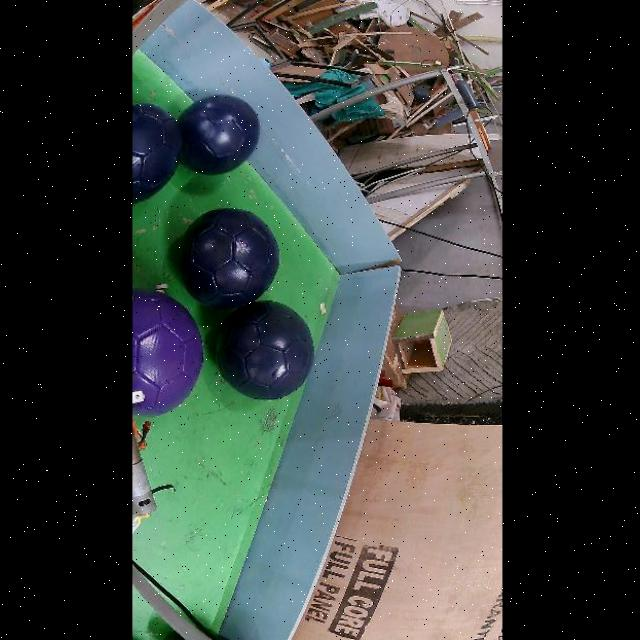B: (177, 209, 279, 309), (216, 301, 315, 400), (178, 94, 259, 175), (132, 102, 183, 203)
P: (132, 288, 203, 416)
